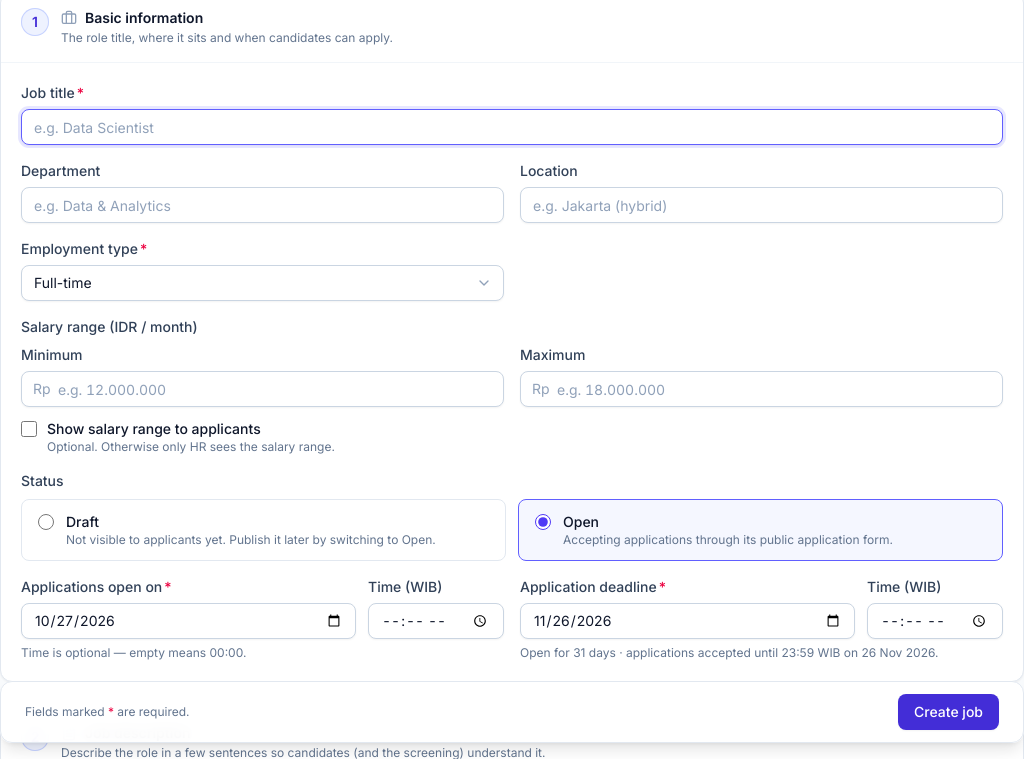
Test: JobForm › asks for a closing date and validates the number of applicants
Clear the date field labelled "Application deadline*" at (688, 621), box [520,603,855,639]
(page scrolled)
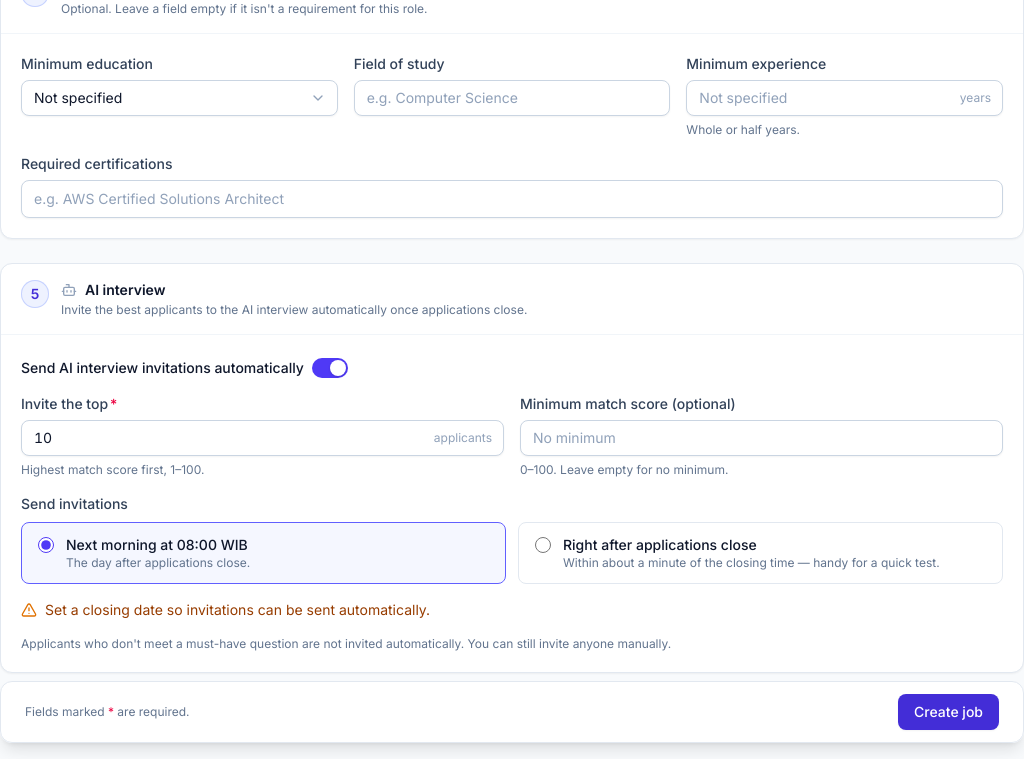
Now the text "Set a closing date so invitations can be sent automatically." is shown, box [45,600,430,620]
Replace the text in the number field labelled "Invite the top*" with "101" at (262, 438), box [21,420,504,456]
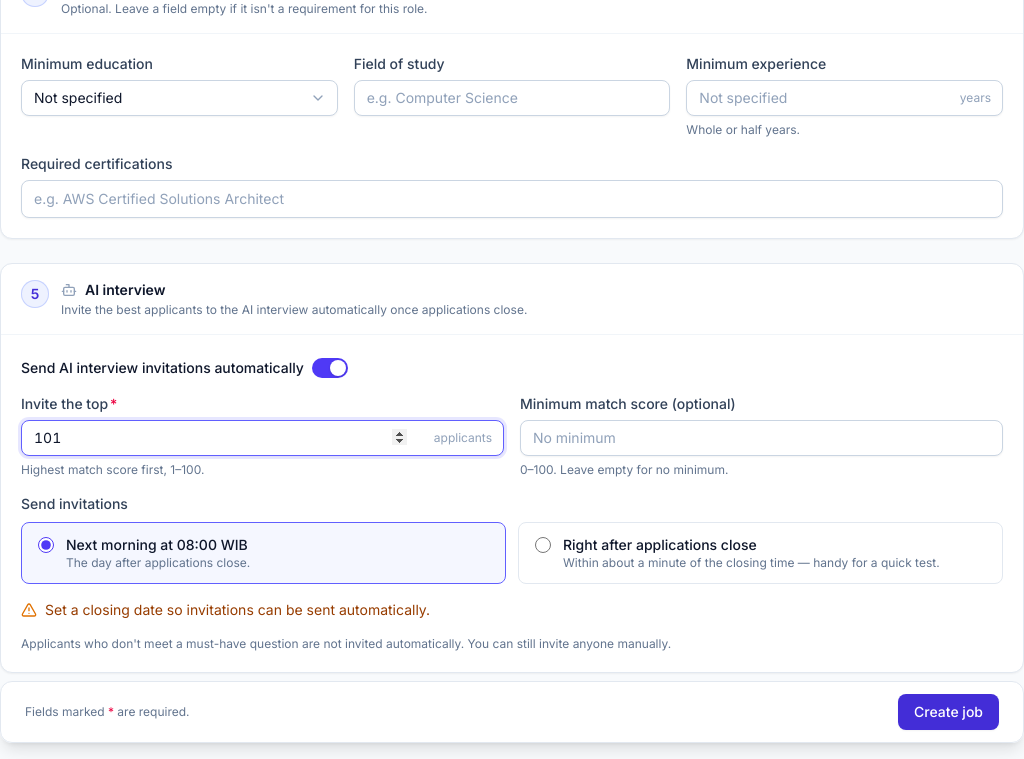
Click the button "Create job".
click(948, 712)  # box [898,694,999,730]
(page scrolled)
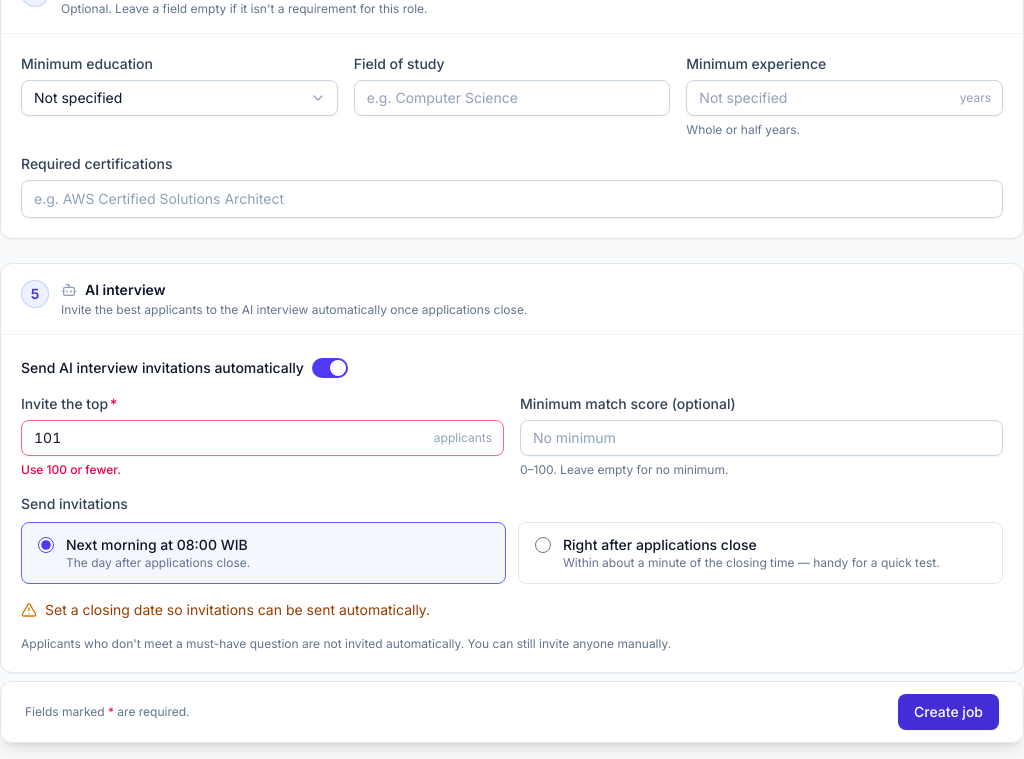
Now the text "Use 100 or fewer." is shown, box [21,462,121,477]
